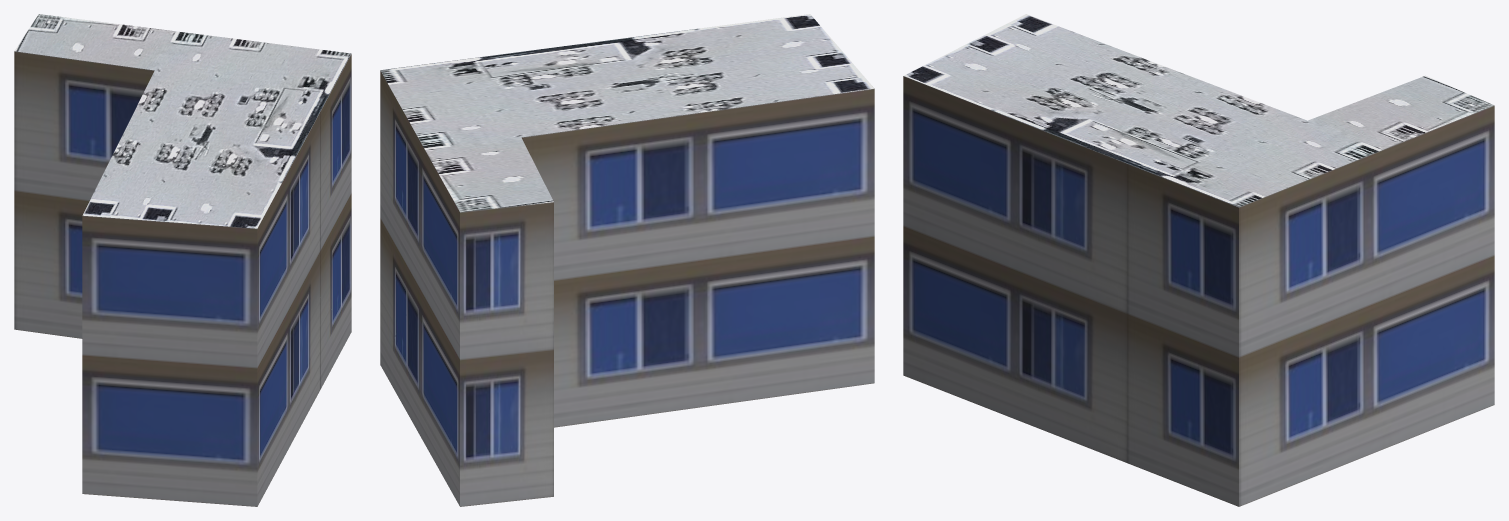
File: ResTex__2318.fbx
3 renders of one model, left to right at view 1: azimuth 30°, elevation 25°; view 2: azimuth 150°, elevation 25°; view 3: azimuth 270°, elevation 25°, orthographic. The views are drawn at different scales.
Visible parts, largest first — view 1: CityEngineMaterial_23_m, CityEngineMaterial_4_m; view 2: CityEngineMaterial_23_m, CityEngineMaterial_4_m; view 3: CityEngineMaterial_23_m, CityEngineMaterial_4_m.
Part boxes in pixels (bbox=[...]): CityEngineMaterial_23_m: bbox=[14, 51, 351, 506]; CityEngineMaterial_4_m: bbox=[14, 14, 351, 228]; CityEngineMaterial_23_m: bbox=[380, 71, 874, 506]; CityEngineMaterial_4_m: bbox=[380, 14, 874, 212]; CityEngineMaterial_23_m: bbox=[903, 76, 1494, 506]; CityEngineMaterial_4_m: bbox=[904, 14, 1493, 207].
Size of the model in its own units: 8.31 by 6 by 10.73.
Materials: 2 (2 with a texture image).
